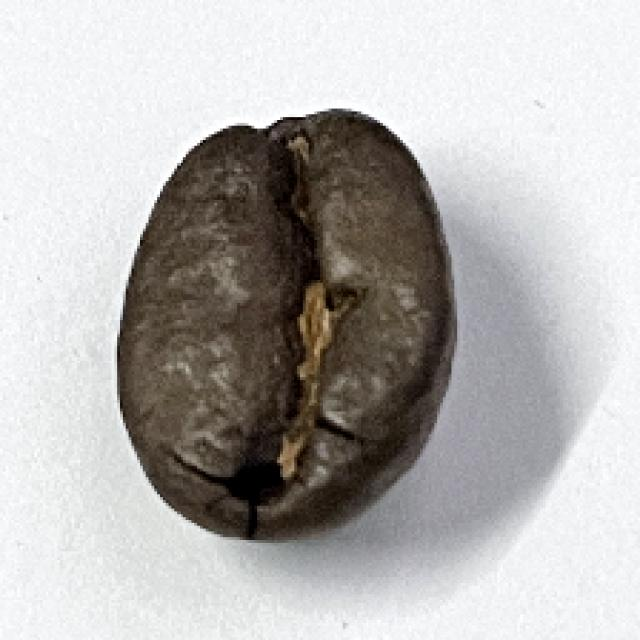bean: (113, 109, 460, 546)
